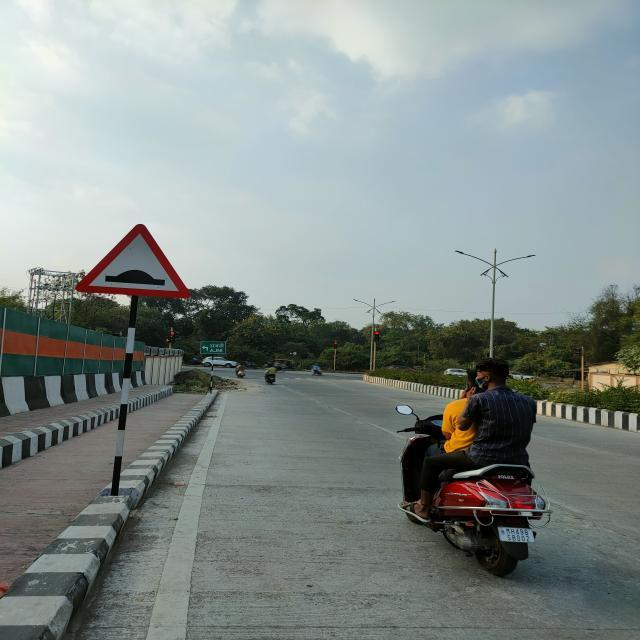hump or rough road: (75, 222, 194, 303)
